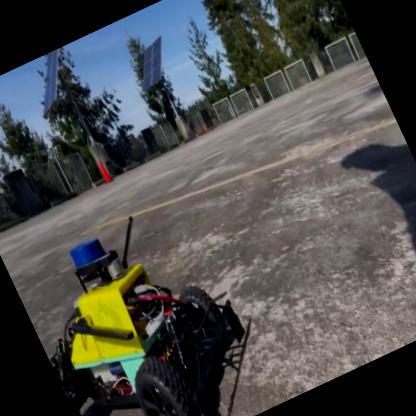cone: (95, 156, 115, 186)
mushr_car: (7, 186, 284, 415)
